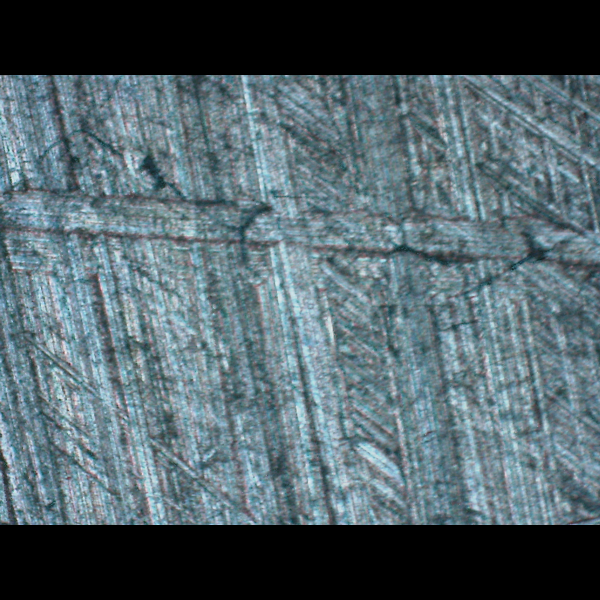d: (0, 124, 599, 278), (0, 324, 263, 524)
